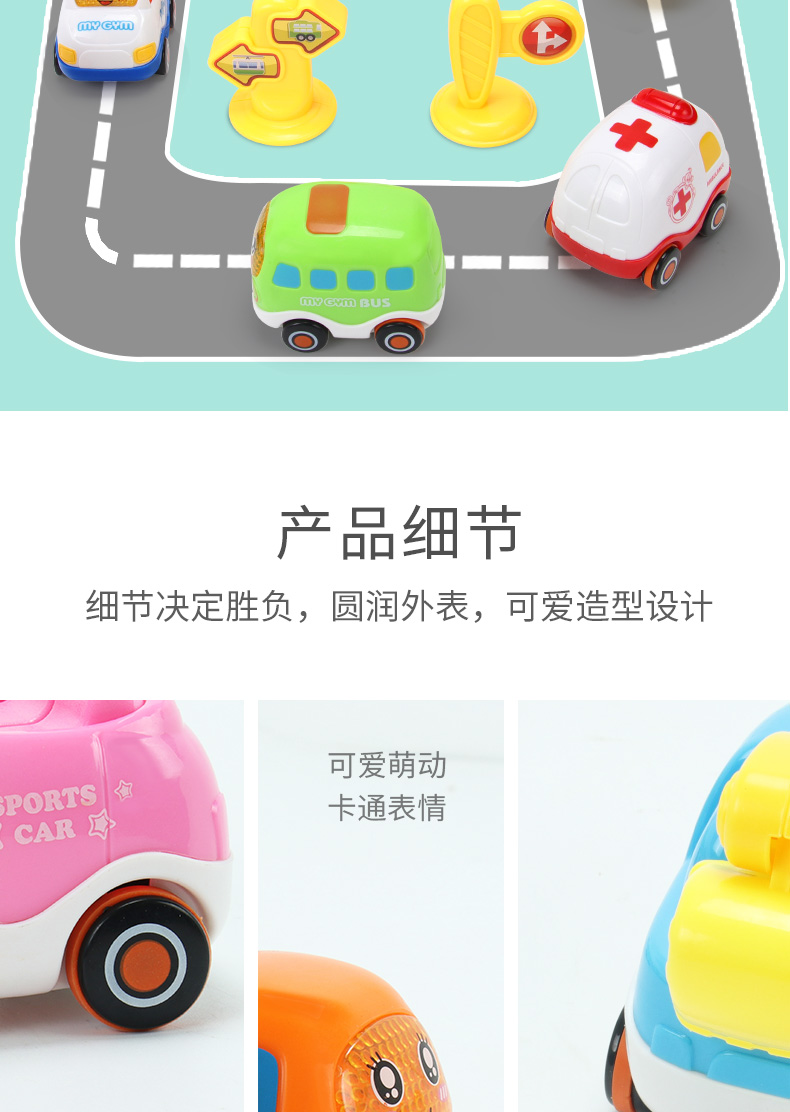Car: (537, 78, 745, 302), (236, 174, 460, 360)
